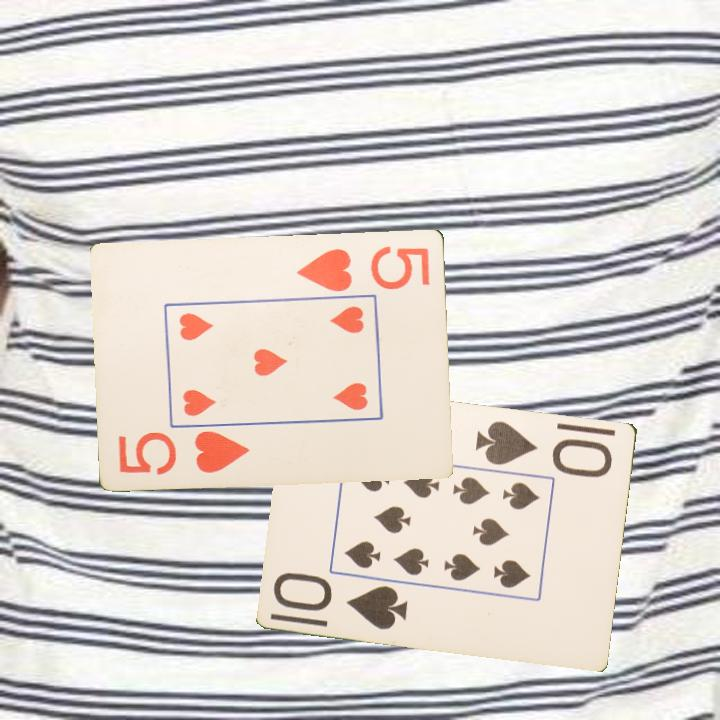10s: (472, 417, 616, 481), (270, 569, 412, 632)
5h: (293, 241, 433, 294), (115, 426, 253, 477)
